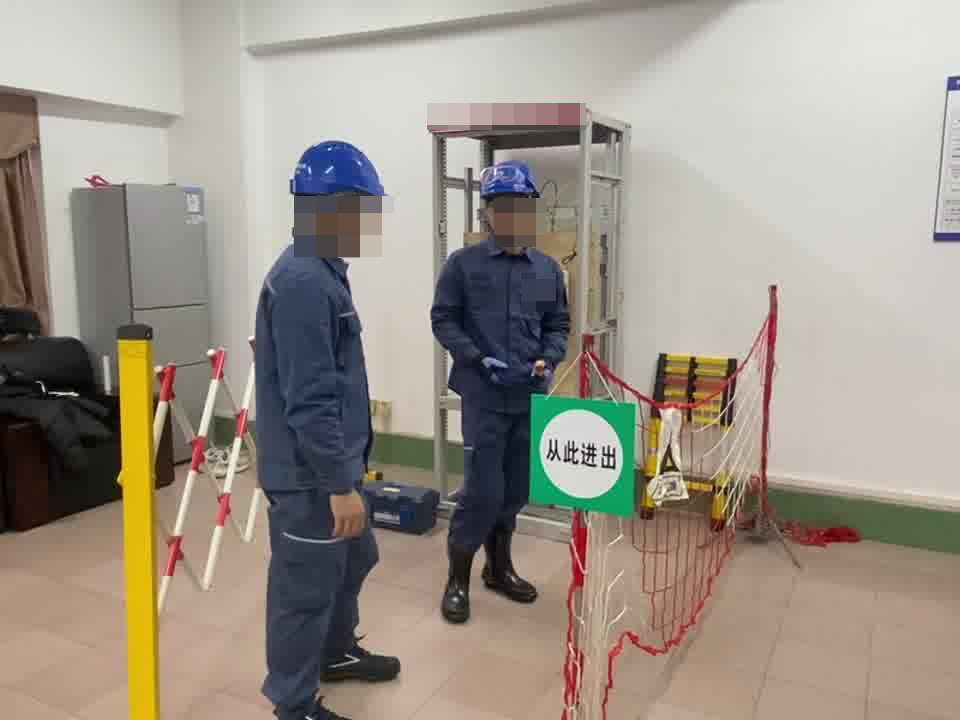downsuit: (261, 495, 382, 710), (447, 401, 533, 582)
glove: (477, 353, 522, 390)
halt: (289, 138, 394, 249), (477, 161, 544, 245)
hand: (324, 490, 369, 536)
inear: (323, 196, 357, 241)
intosign: (532, 394, 635, 507)
person: (248, 133, 400, 720), (432, 157, 576, 620)
shoe: (484, 537, 539, 604), (440, 550, 477, 613)
upsuit: (253, 244, 371, 490), (437, 241, 567, 388)
